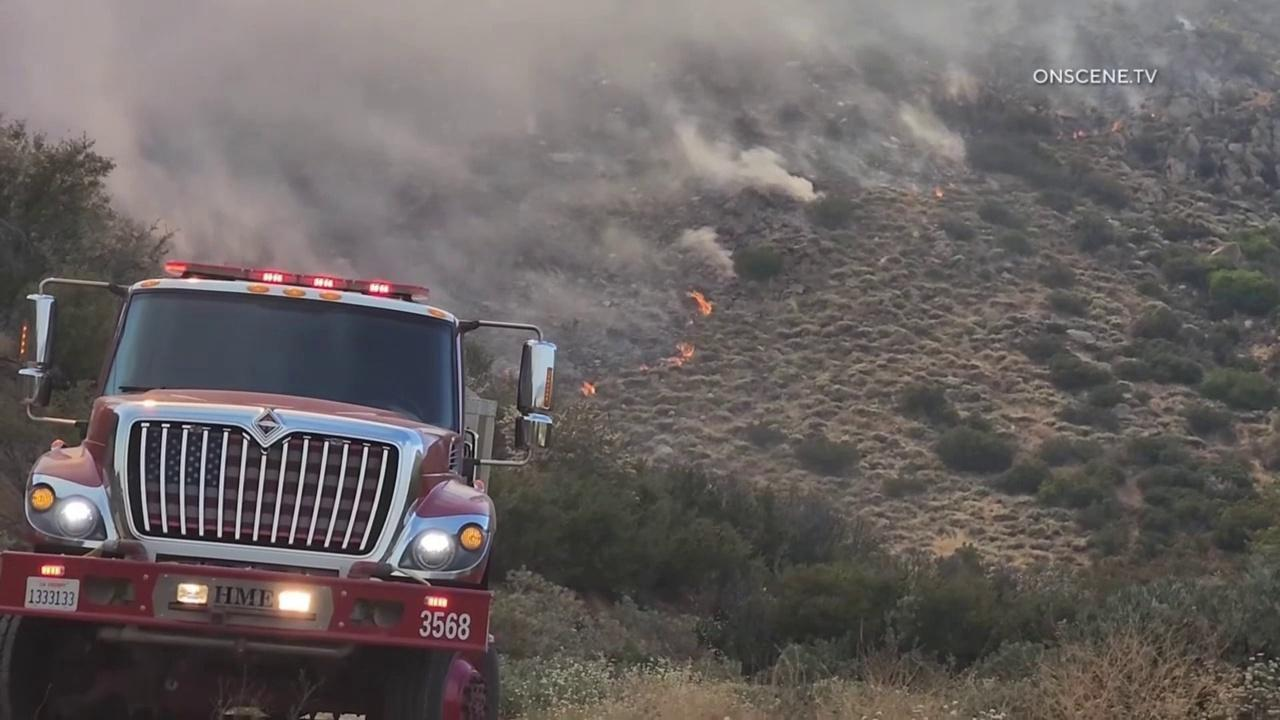fire: (659, 341, 695, 367), (685, 289, 714, 316), (1055, 128, 1088, 142), (576, 380, 598, 398), (932, 182, 947, 199), (1107, 121, 1123, 134)
smoke: (0, 0, 1280, 400)
